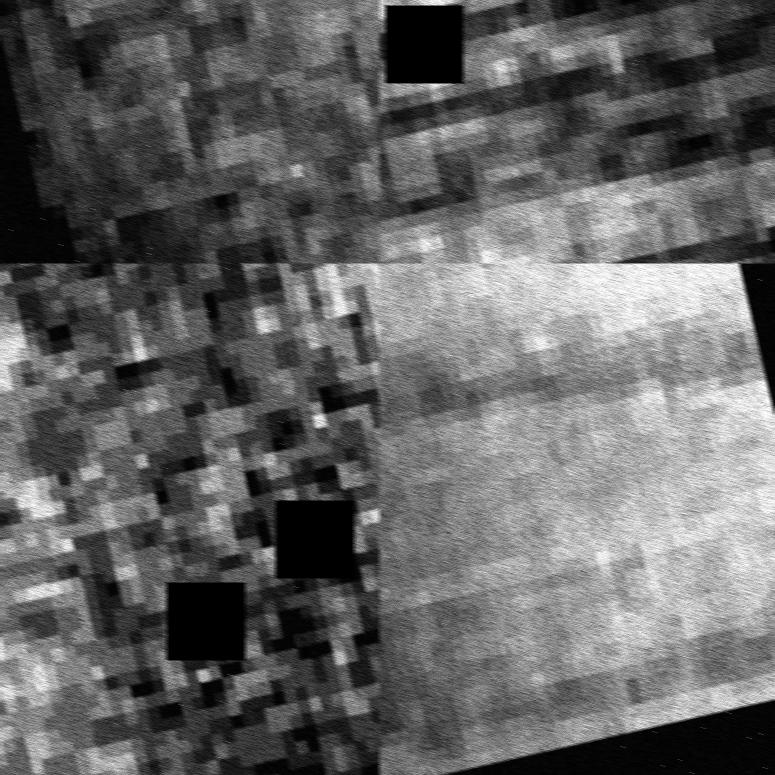AirbagV2: (0, 263, 379, 775), (0, 0, 379, 263)
